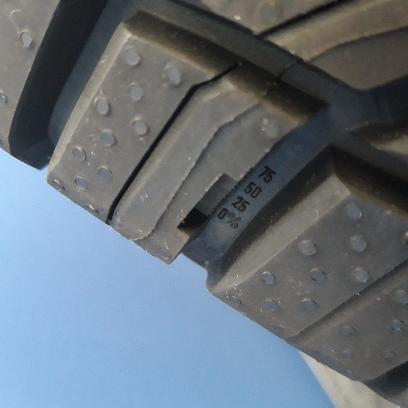temoin:100: (175, 166, 256, 241)
